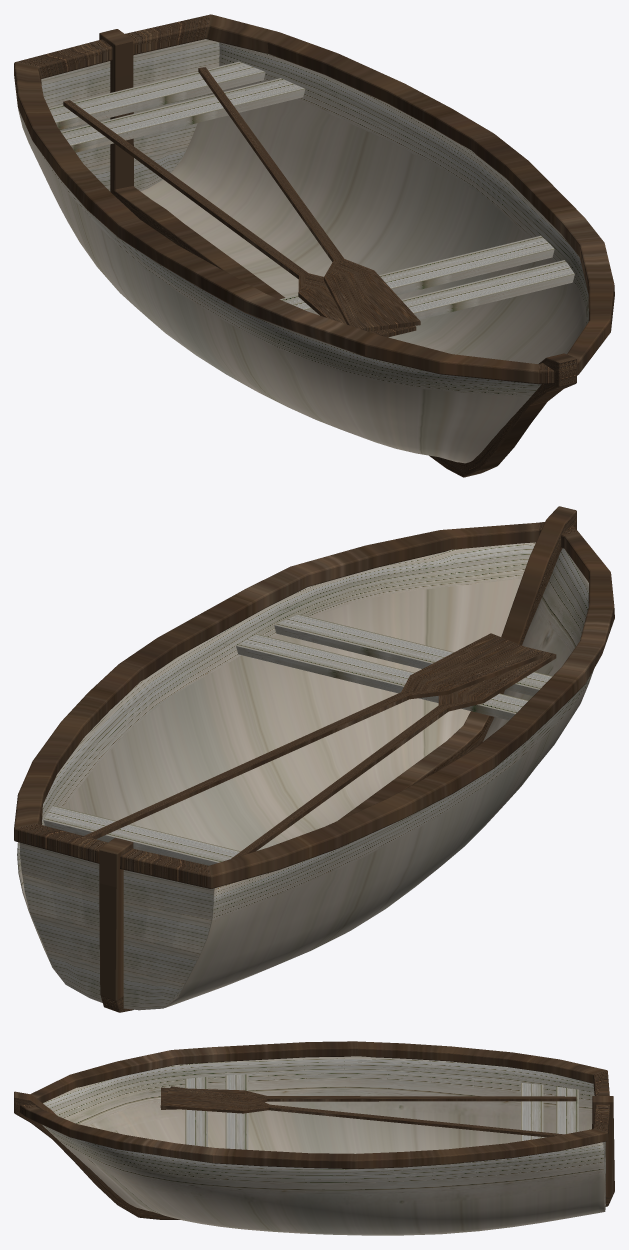
File: boat_wooden.glb
3 views of the same model, one above another, from view 1: azimuth 30°, elevation 25°; view 2: azimuth 150°, elevation 25°; view 3: azimuth 270°, elevation 25° (orthographic). The views are drawn at different scales.
Visible parts, largest first — view 1: boat_0, flipper_1_1, flipper_2_2; view 2: boat_0, flipper_1_1, flipper_2_2; view 3: boat_0, flipper_1_1, flipper_2_2.
Part boxes in pixels (x1,y1,x2,y2): boat_0: (14, 14, 614, 477); flipper_1_1: (198, 67, 420, 331); flipper_2_2: (63, 100, 416, 337); boat_0: (14, 506, 614, 1012); flipper_1_1: (84, 633, 542, 839); flipper_2_2: (231, 647, 556, 858); boat_0: (14, 1041, 614, 1235); flipper_1_1: (160, 1086, 563, 1137); flipper_2_2: (161, 1087, 576, 1109).
Size of the model in its own units: 1.32 by 0.6315 by 2.8.
7 materials, 7 textured.
